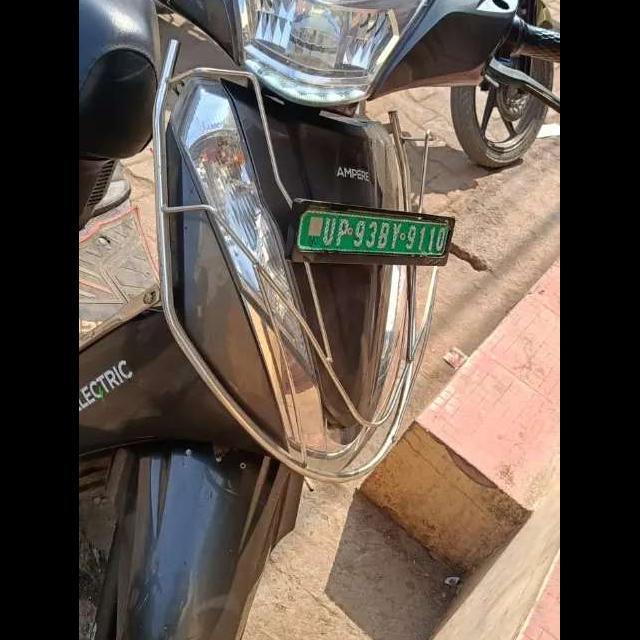Indian_Number_Plate: (293, 204, 457, 261)
